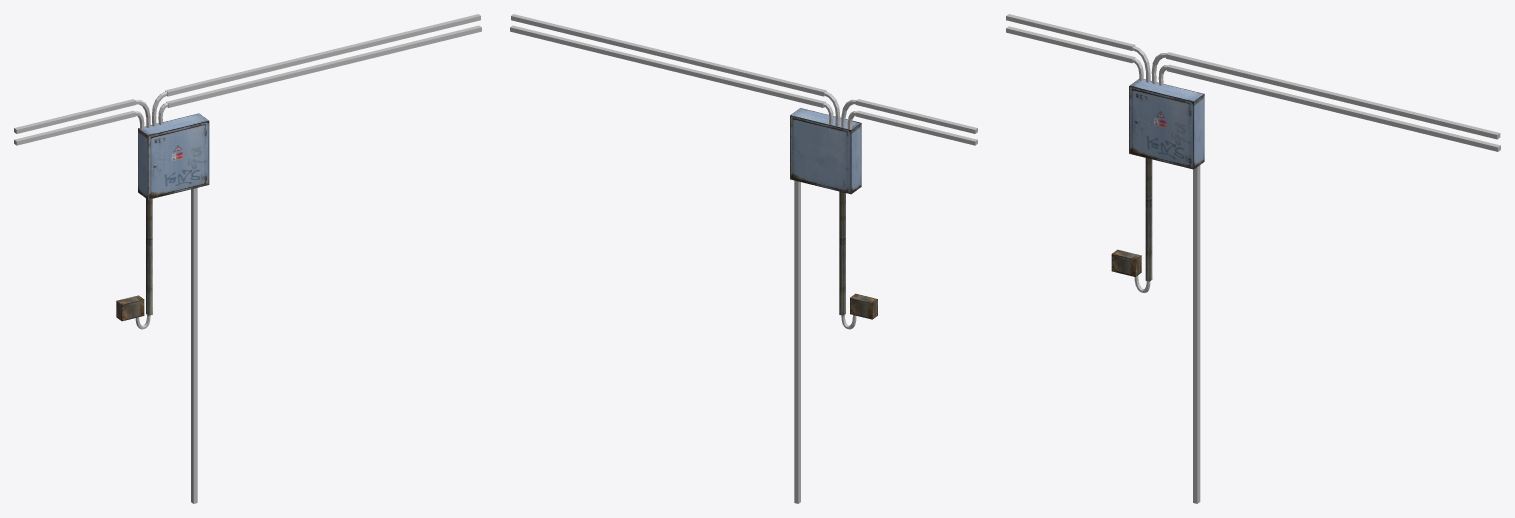
File: powerbox1ms3d.fbx
3 renders of one model, left to right at view 1: azimuth 30°, elevation 25°; view 2: azimuth 150°, elevation 25°; view 3: azimuth 330°, elevation 25°, orthographic. The views are drawn at different scales.
Parts seen in each view (by area): view 1: wires0, pb1side0, pb1front0, Boxa0, Boxb0; view 2: wires0, pb1front0, Boxa0, Boxb0; view 3: wires0, pb1side0, pb1front0, Boxa0, Boxb0.
Part boxes in pixels (bbox=[...]): wires0: bbox=[14, 14, 481, 503]; pb1side0: bbox=[148, 121, 209, 199]; pb1front0: bbox=[138, 113, 208, 199]; Boxa0: bbox=[146, 198, 152, 315]; Boxb0: bbox=[116, 295, 144, 321]; wires0: bbox=[510, 14, 977, 503]; pb1front0: bbox=[790, 108, 861, 194]; Boxa0: bbox=[839, 191, 845, 315]; Boxb0: bbox=[850, 293, 877, 319]; wires0: bbox=[1006, 14, 1500, 503]; pb1side0: bbox=[1129, 86, 1193, 169]; pb1front0: bbox=[1129, 79, 1204, 168]; Boxa0: bbox=[1145, 158, 1152, 281]; Boxb0: bbox=[1111, 249, 1141, 276].
Size of the model in its own units: 5.72 by 4.92 by 0.2241.
